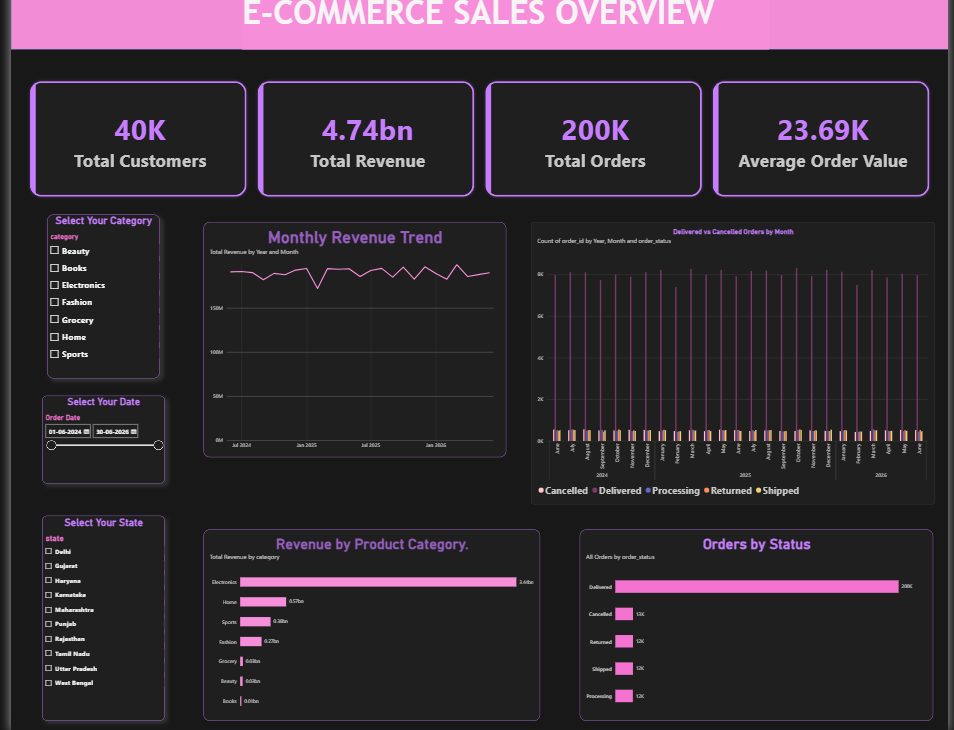

The dashboard page shown, as its layout file describes it:
{"tool":"powerbi","page":{"name":"Sales Overview","canvas":[2500,2085],"ordinal":0},"visuals":[{"type":"shape","box":[0,0,2500,260],"z":0},{"type":"textbox","box":[616.7,53.3,1405,150],"z":1000},{"type":"cardVisual","fields":{"Data":["public customer.Total Customers","public sale.Total Revenue","public sale.Total Orders","public sale.Average Order Value"]},"box":[40,333.3,2423.3,330],"z":2000},{"type":"lineChart","title":"Monthly Revenue Trend","fields":{"Category":["public sale.order_date.Variation.Date Hierarchy.Year","public sale.order_date.Variation.Date Hierarchy.Month"],"Y":["public sale.Total Revenue"]},"box":[512.5,720,807.5,627.5],"z":3000},{"type":"clusteredBarChart","title":"Revenue by Product Category.","fields":{"Category":["public product.category"],"Y":["public sale.Total Revenue"]},"box":[512.5,1540,897.5,510],"z":4000},{"type":"slicer","title":"Select Your Category","fields":{"Values":["public product.category"]},"box":[96.7,700,300,436.7],"z":5000},{"type":"slicer","title":"Select Your Date","fields":{"Values":["public sale.order_date"]},"box":[83.3,1183.3,326.7,233.3],"z":6000},{"type":"slicer","title":"Select Your State","fields":{"Values":["public customer.state"]},"box":[83.3,1503.3,326.7,546.7],"z":7000},{"type":"clusteredBarChart","title":"Orders by Status","fields":{"Category":["public sale.order_status"],"Y":["public sale.All Orders"]},"box":[1517.5,1540,942.5,510],"z":8000},{"type":"clusteredColumnChart","title":"Delivered vs Cancelled Orders by Month","fields":{"Category":["public sale.order_date.Variation.Date Hierarchy.Year","public sale.order_date.Variation.Date Hierarchy.Month"],"Series":["public sale.order_status"],"Y":["CountNonNull(public sale.order_id)"]},"box":[1385,720,1077.5,752.5],"z":8001}]}

Visuals, with their boxes on the page's 2500x2085 design canvas (x1, y1, x2, y2). These are canvas units, not pixel positions in the 954x730 screenshot, which may show the page scaled, cropped or inside an application window:
shape: rect(0, 0, 2500, 260)
textbox: rect(617, 53, 2022, 203)
cardVisual - public customer.Total Customers x public sale.Total Revenue: rect(40, 333, 2463, 663)
"Monthly Revenue Trend" lineChart: rect(512, 720, 1320, 1348)
"Revenue by Product Category." clusteredBarChart: rect(512, 1540, 1410, 2050)
"Select Your Category" slicer: rect(97, 700, 397, 1137)
"Select Your Date" slicer: rect(83, 1183, 410, 1417)
"Select Your State" slicer: rect(83, 1503, 410, 2050)
"Orders by Status" clusteredBarChart: rect(1518, 1540, 2460, 2050)
"Delivered vs Cancelled Orders by Month" clusteredColumnChart: rect(1385, 720, 2462, 1472)
